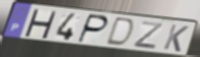4: (54, 12, 78, 42)
D: (104, 16, 137, 48)
H: (22, 9, 58, 40)
K: (161, 24, 190, 54)
P: (76, 13, 110, 44)
Z: (132, 20, 165, 51)
